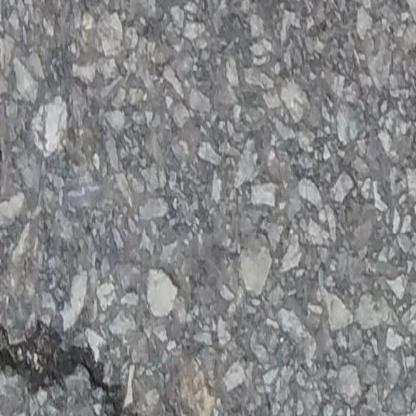Cracks: (0, 303, 152, 416)
